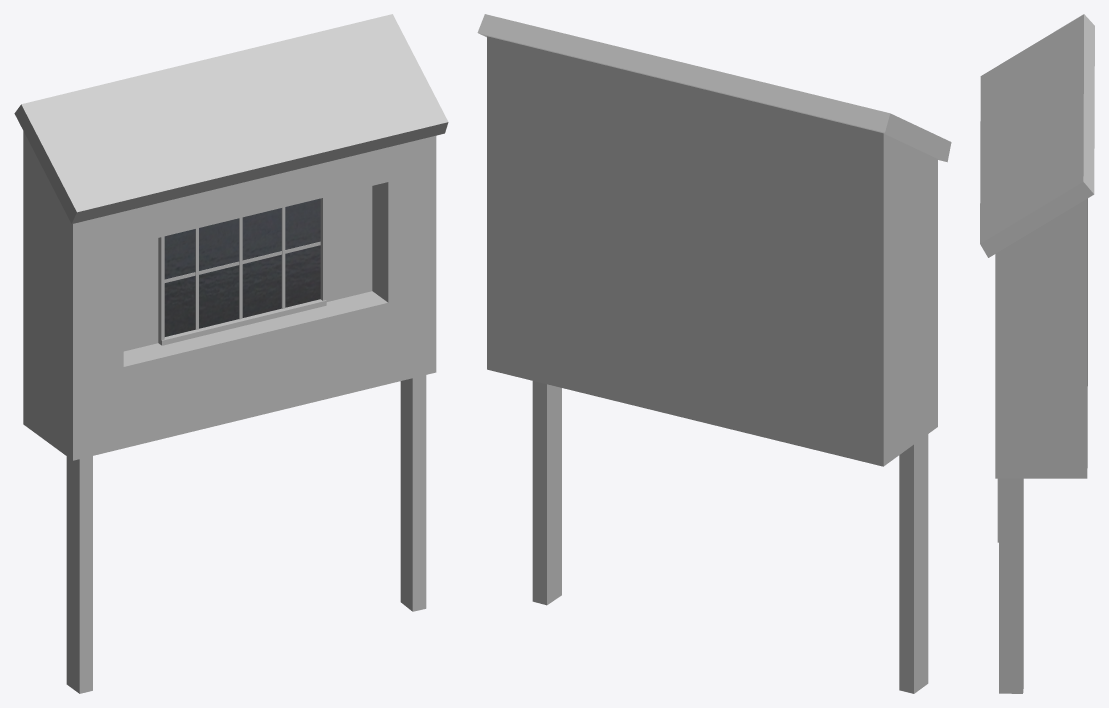
File: apart_poor_14a.fbx
3 renders of one model, left to right at view 1: azimuth 30°, elevation 25°; view 2: azimuth 150°, elevation 25°; view 3: azimuth 270°, elevation 25°, orthographic. The views are drawn at different scales.
Parts seen in each view (by area): view 1: apart_poor_14a; view 2: apart_poor_14a; view 3: apart_poor_14a.
Part boxes in pixels (box(x1,y1,x2,y2)): apart_poor_14a: box(14, 14, 448, 693); apart_poor_14a: box(477, 14, 951, 693); apart_poor_14a: box(980, 14, 1094, 693).
Size of the model in its own units: 3.84 by 5.5 by 1.11.
